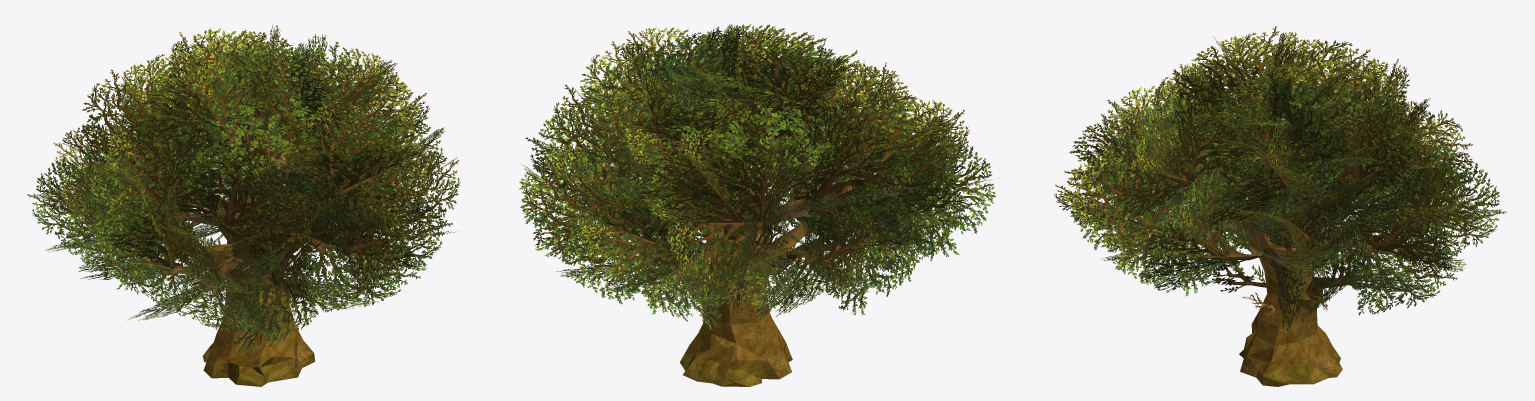
File: ElwynTree03.obj
3 views of the same model, side by side, from view 1: azimuth 30°, elevation 25°; view 2: azimuth 150°, elevation 25°; view 3: azimuth 270°, elevation 25° (orthographic). The views are drawn at different scales.
Visible parts, largest first — view 1: Body.001_Body_Mesh.001, Body_Body_Mesh; view 2: Body.001_Body_Mesh.001, Body_Body_Mesh; view 3: Body.001_Body_Mesh.001, Body_Body_Mesh.
Part boxes in pixels (x1,y1,x2,y2): Body.001_Body_Mesh.001: (27, 24, 460, 357); Body_Body_Mesh: (124, 176, 315, 386); Body.001_Body_Mesh.001: (519, 24, 995, 329); Body_Body_Mesh: (612, 169, 915, 386); Body.001_Body_Mesh.001: (1054, 26, 1506, 333); Body_Body_Mesh: (1190, 189, 1393, 386).
Size of the model in its own units: 99 by 74.75 by 101.
Materials: 2 (2 with a texture image).
